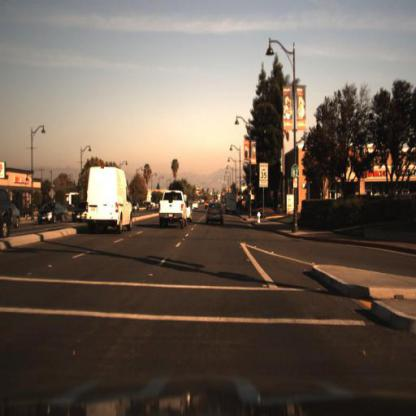car: (77, 147, 139, 243), (156, 182, 190, 222), (38, 200, 69, 226), (1, 192, 20, 234), (71, 196, 91, 229), (224, 185, 242, 213), (207, 203, 223, 231), (73, 201, 88, 224)
truck: (83, 166, 138, 236), (225, 190, 239, 216)
